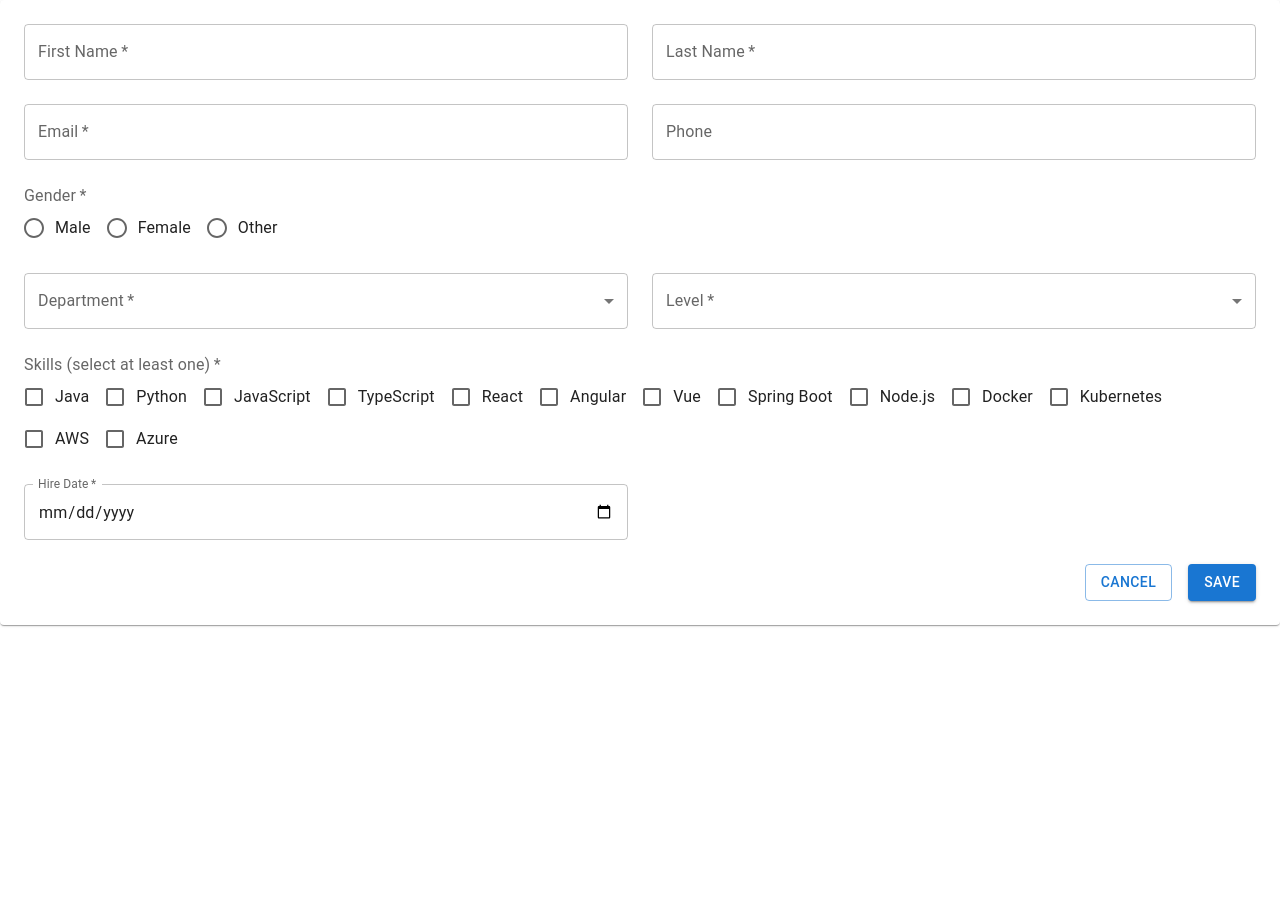
Scenario: EmployeeForm - Property-Based Validation Tests › Property 10: UI validation provides feedback › should show validation error for invalid first name inputs
This screenshot has width=1280, height=900.
Note: Test with a short name
Type "A" into the field labelled "First Name *". click: (326, 52)
box: [24,24,628,80]
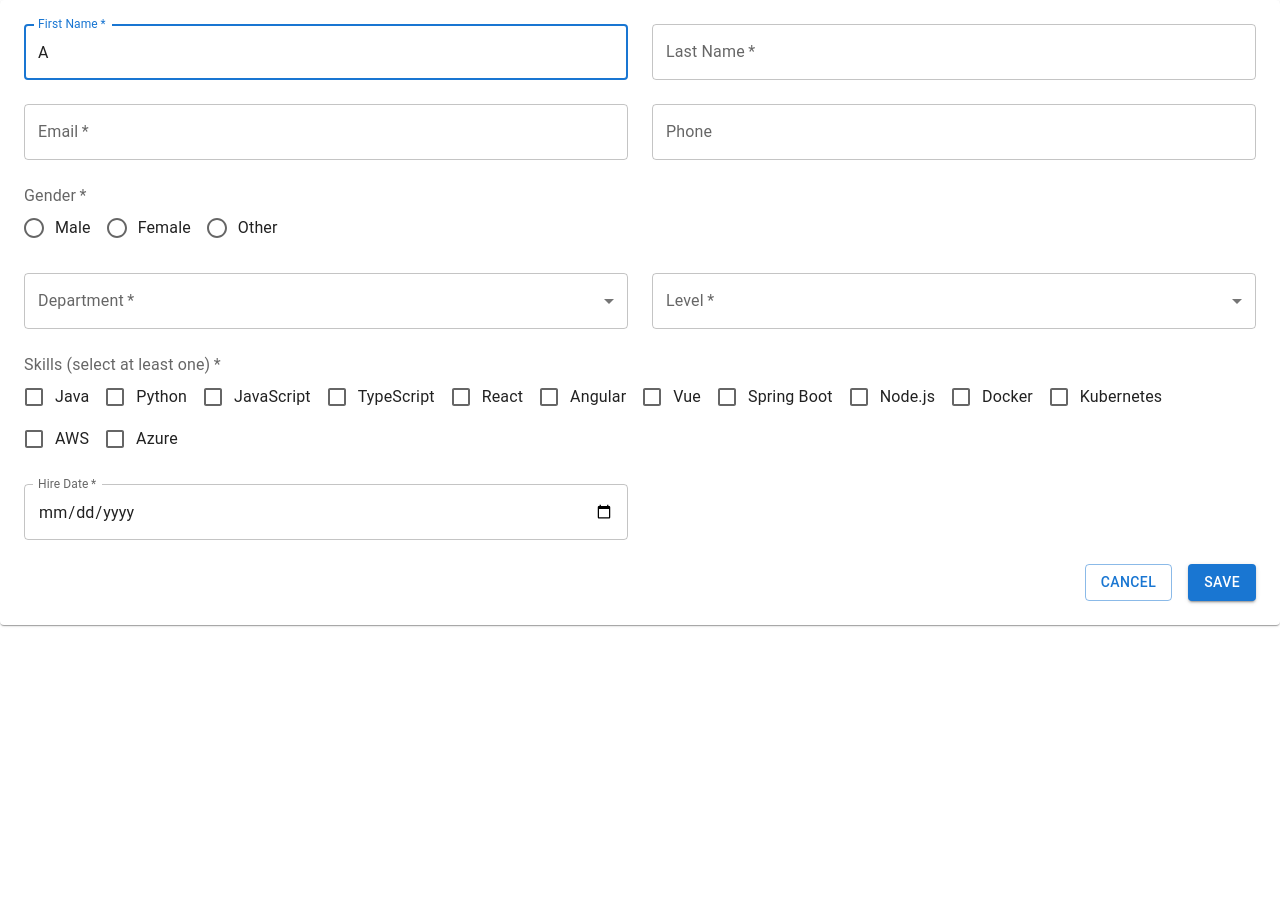
Press Tab
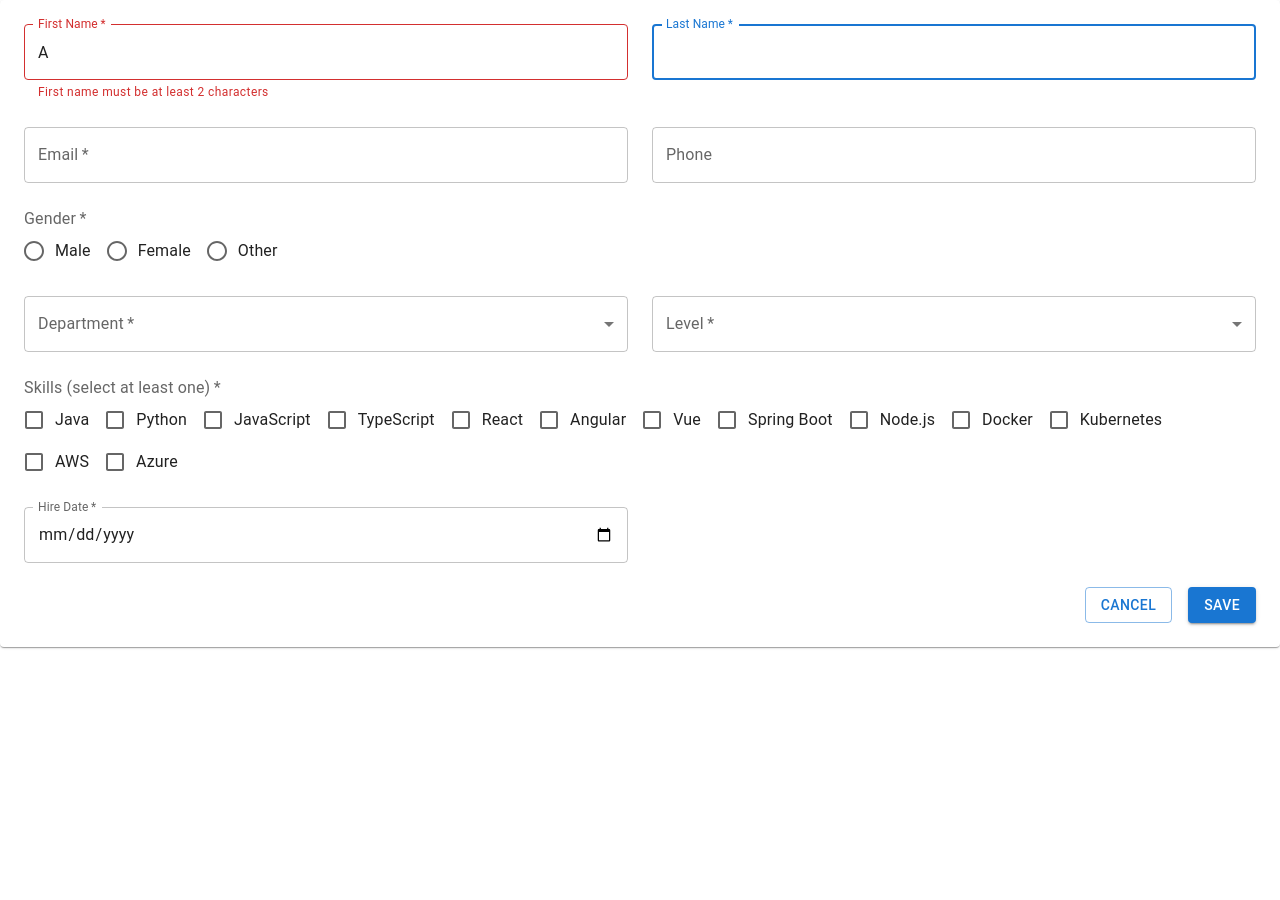
Result: the text "First name must be at least 2 characters" is shown at [38,85,269,99]
